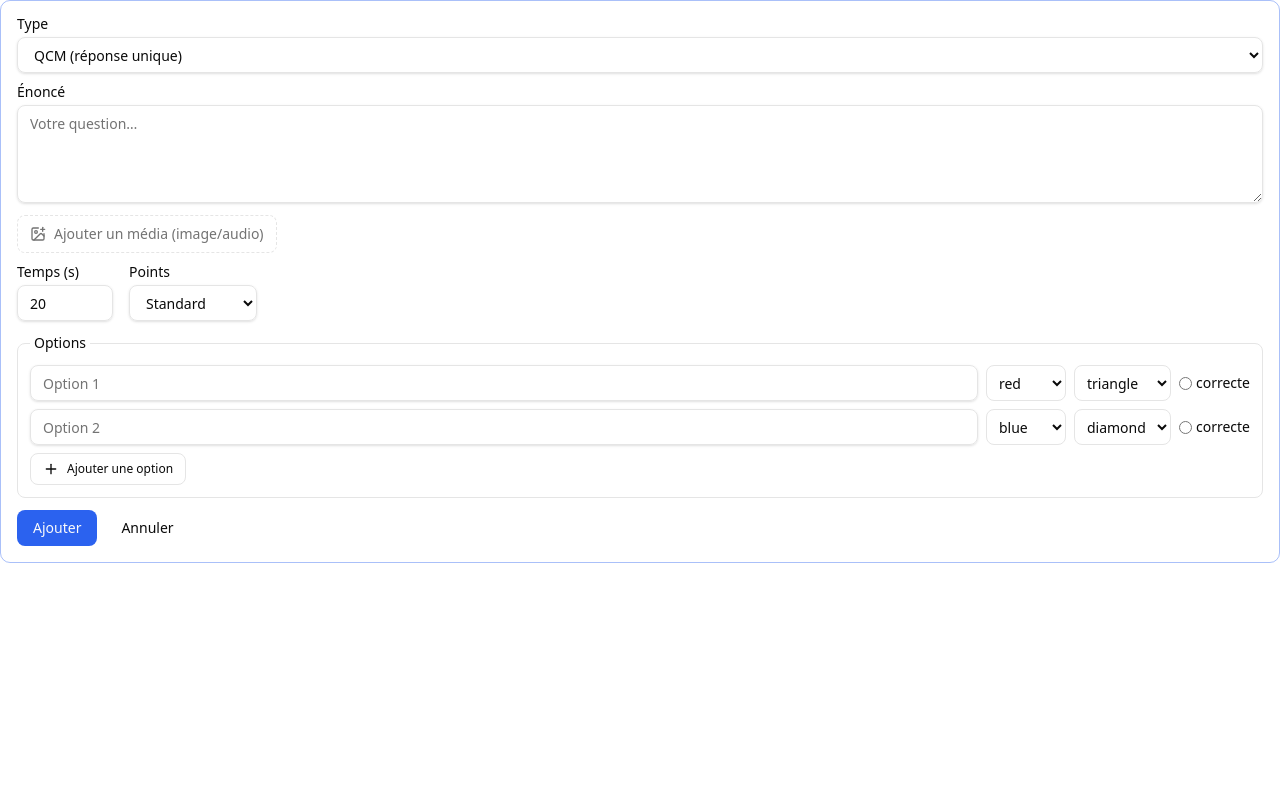
QuestionForm › résout le code d’erreur tokenisé renvoyé par l’API (400) en texte i18n
Type "X" into the text box labelled "Énoncé". click: (640, 154)
box: top-left (17, 105), bottom-right (1263, 203)
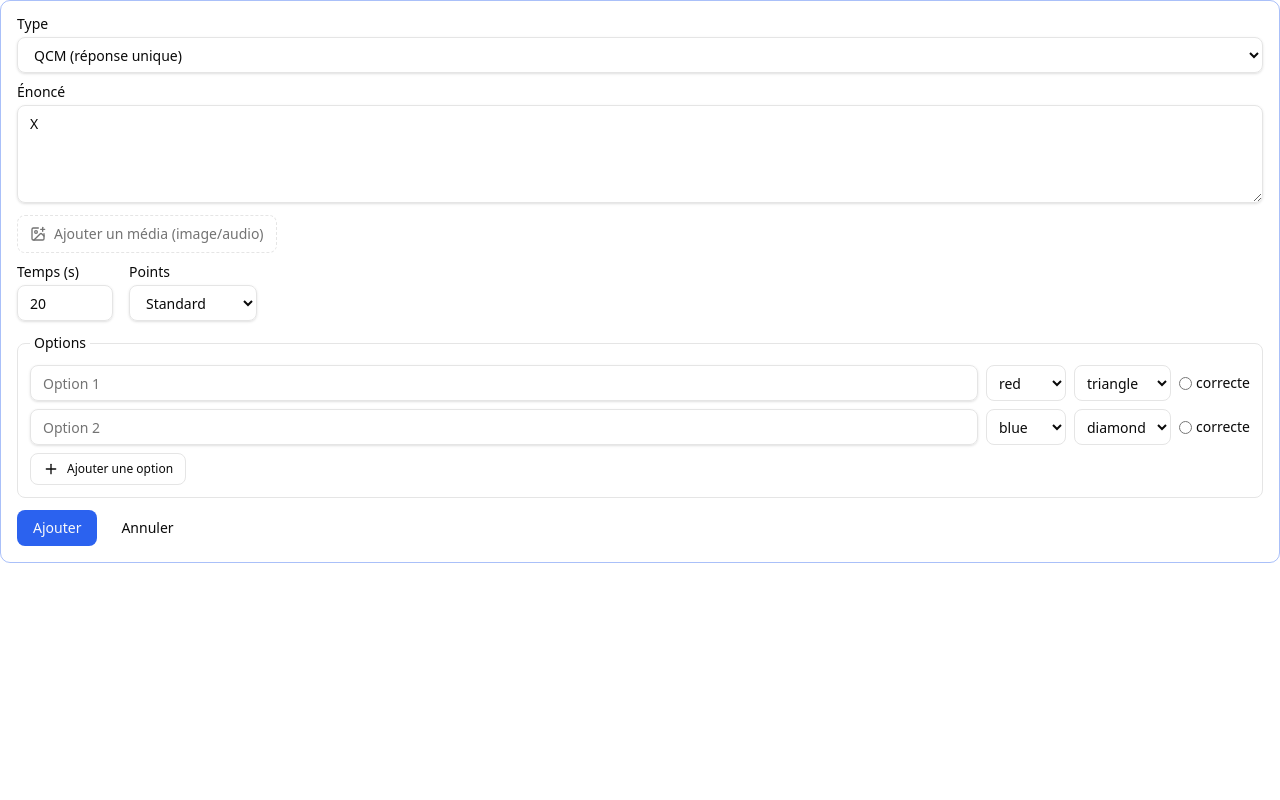
Click the button "Ajouter". click: (57, 528)
box: top-left (17, 510), bottom-right (97, 546)
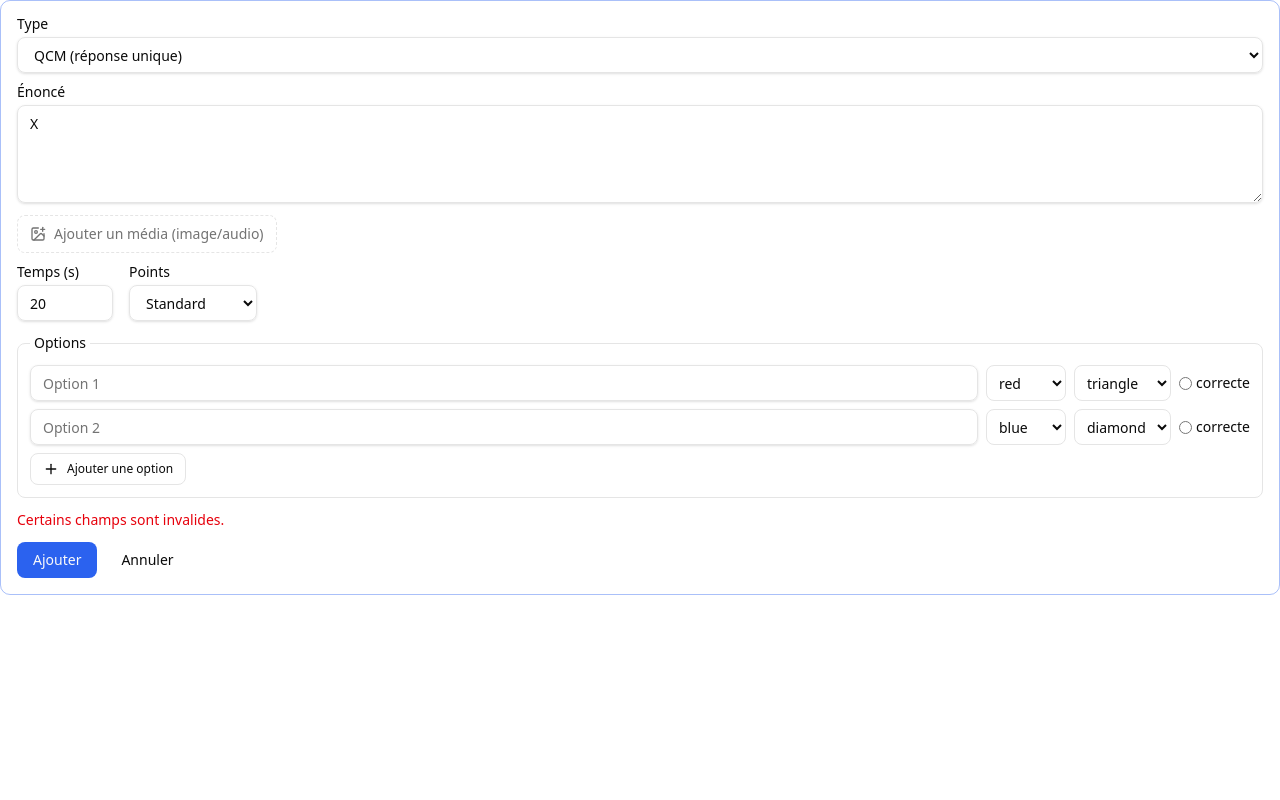
Now the text "Certains champs sont invalides." is shown, box top-left (17, 510), bottom-right (224, 529)
